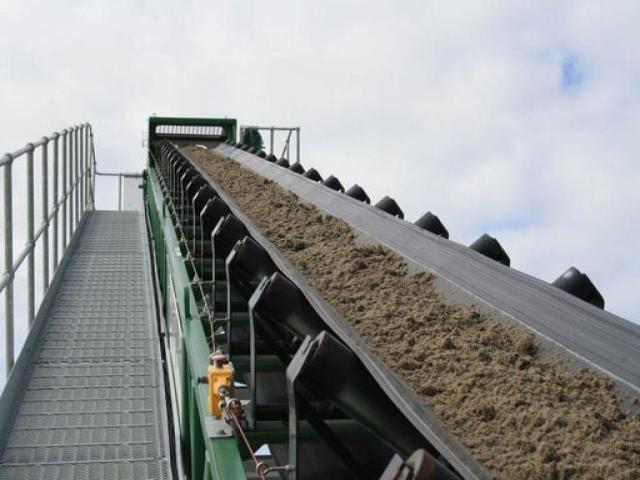conveyor: (140, 118, 639, 479)
